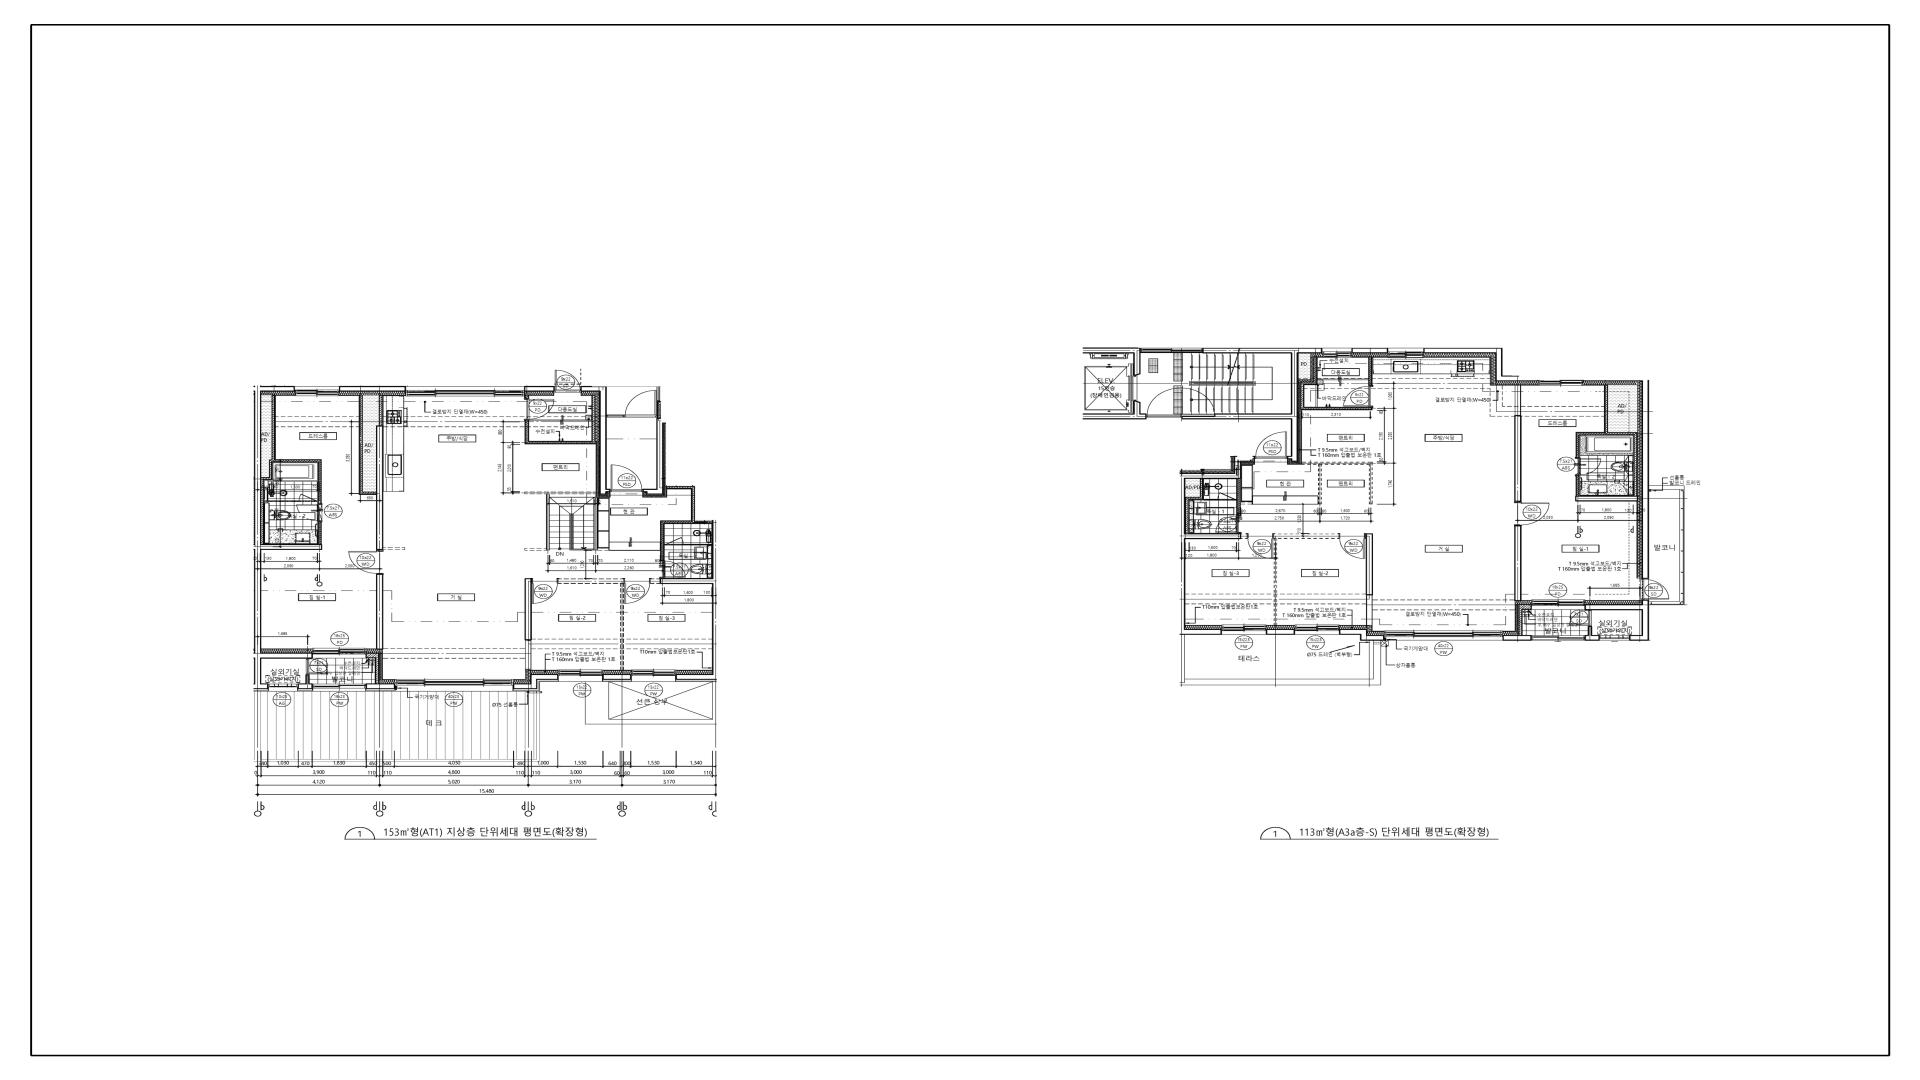door: (1146, 388, 1182, 418), (1255, 431, 1287, 459), (611, 464, 642, 492), (625, 390, 657, 418), (1514, 502, 1549, 526), (348, 551, 384, 574), (1247, 533, 1274, 559), (1338, 534, 1366, 559), (531, 579, 558, 604), (624, 579, 650, 604), (1344, 385, 1373, 407), (1642, 579, 1669, 600), (555, 371, 580, 393), (1215, 514, 1242, 533), (1576, 458, 1602, 476), (661, 560, 686, 579), (297, 504, 322, 522), (306, 658, 328, 675), (1568, 611, 1592, 626), (1217, 492, 1236, 501), (665, 537, 683, 546), (299, 493, 318, 502)
wall: (1582, 376, 1684, 641), (255, 386, 322, 690), (642, 418, 716, 680), (1182, 348, 1321, 462), (1182, 456, 1255, 636), (261, 394, 322, 545), (1576, 385, 1638, 501), (558, 579, 624, 670), (1274, 534, 1338, 626), (525, 492, 596, 550), (1300, 356, 1373, 410), (359, 396, 384, 551), (661, 487, 713, 560), (1424, 348, 1539, 381), (525, 396, 596, 444), (580, 386, 611, 495), (1302, 462, 1373, 505), (1185, 479, 1218, 534), (1083, 347, 1141, 376), (1083, 400, 1146, 419), (1514, 385, 1522, 502), (593, 497, 609, 550), (513, 674, 559, 690), (1366, 534, 1373, 626), (376, 574, 384, 650), (525, 579, 531, 670), (1514, 526, 1522, 601), (1340, 629, 1385, 641), (513, 680, 559, 691), (1519, 604, 1531, 636), (367, 653, 378, 683), (339, 386, 406, 392), (1585, 626, 1600, 641), (298, 675, 313, 690), (365, 683, 396, 690), (1352, 348, 1389, 353), (1236, 479, 1241, 516), (603, 674, 632, 680), (1266, 629, 1295, 636), (525, 386, 555, 392), (1503, 636, 1532, 641), (1369, 356, 1373, 385), (318, 522, 322, 545), (607, 414, 625, 418), (675, 680, 716, 682), (650, 579, 659, 584), (365, 690, 396, 691), (683, 545, 712, 546), (603, 680, 632, 682), (1241, 534, 1247, 539), (298, 690, 313, 691), (255, 690, 269, 691), (525, 394, 529, 398)
window: (396, 679, 513, 691), (1385, 630, 1503, 641), (406, 386, 525, 397), (1531, 600, 1585, 611), (632, 670, 675, 682), (559, 670, 603, 682), (313, 649, 367, 658), (1221, 625, 1267, 636), (1295, 625, 1340, 636), (1539, 376, 1582, 386), (313, 683, 365, 691), (294, 386, 339, 396), (1389, 348, 1424, 359), (1141, 348, 1203, 353), (1321, 348, 1352, 357), (1532, 636, 1585, 641), (269, 683, 298, 691), (1600, 636, 1630, 641)
